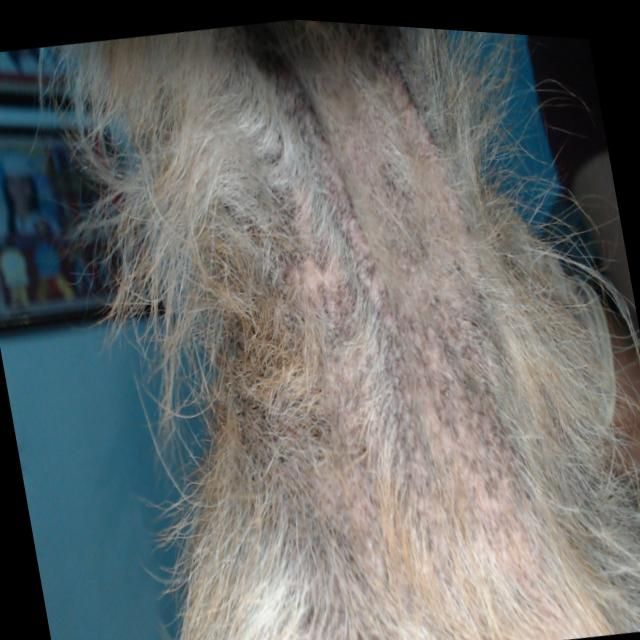demodicosis: (263, 86, 531, 565)
